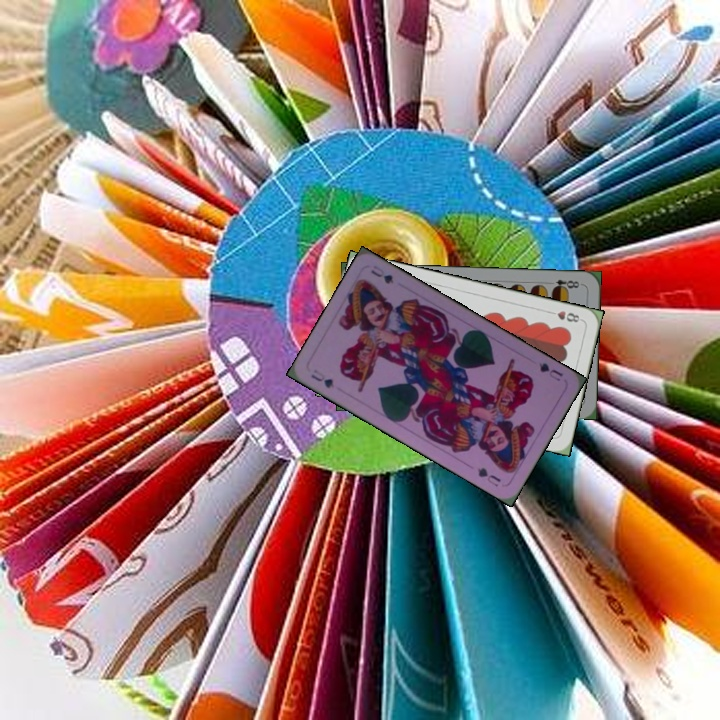E8: (548, 275, 585, 293)
GU: (534, 359, 566, 384), (307, 365, 337, 391)
H8: (545, 307, 585, 325)
